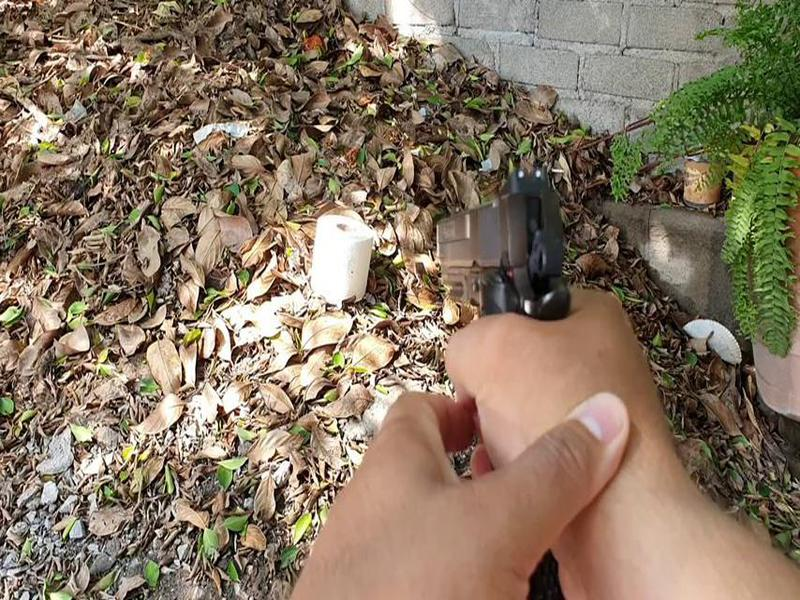Pistola: (395, 176, 581, 381)
